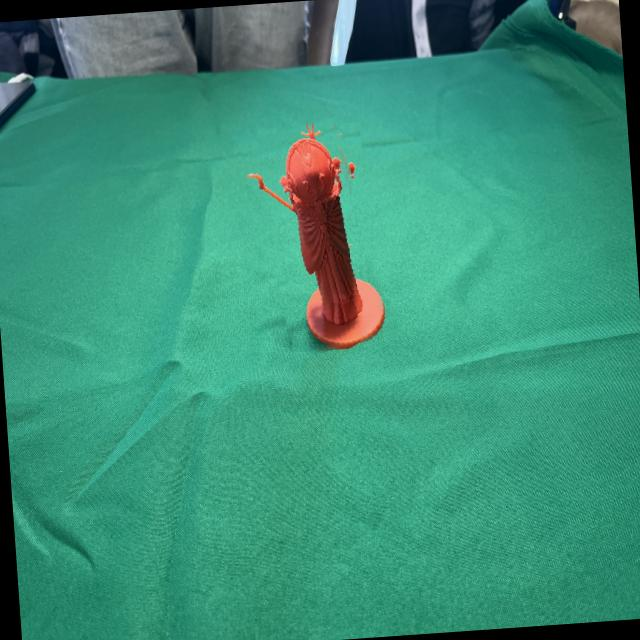amon: (247, 118, 386, 358)
